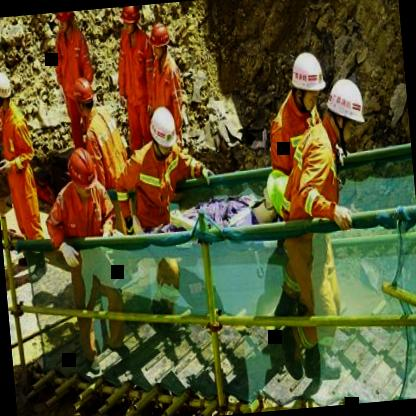helmet: (324, 72, 371, 148), (286, 48, 330, 116), (260, 166, 302, 219), (147, 103, 182, 158), (71, 67, 100, 130), (63, 146, 99, 194), (148, 18, 174, 62), (0, 66, 16, 114), (118, 5, 142, 37), (53, 10, 78, 34)
